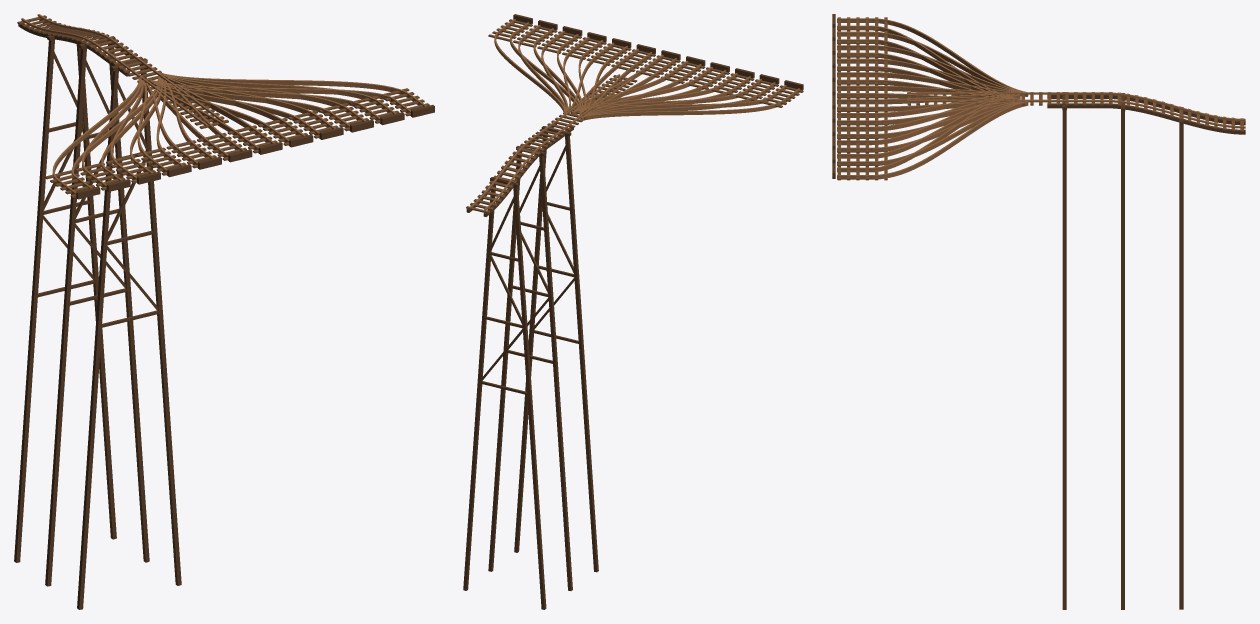
Rendered from MinecartMayhemRailStart.obj.
The picture shows the model from 3 angles, left to right: view 1: azimuth 30°, elevation 25°; view 2: azimuth 150°, elevation 25°; view 3: azimuth 270°, elevation 25°; orthographic projection. The views are drawn at different scales.
Parts seen in each view (by area): view 1: Trestle, Rails, Ties; view 2: Trestle, Rails, Ties; view 3: Rails, Trestle, Ties.
Boxes of the visible parts, x1,y1,x2,y2 form: Trestle: [14, 19, 434, 609]; Rails: [21, 14, 426, 197]; Ties: [17, 15, 429, 197]; Trestle: [463, 14, 803, 609]; Rails: [469, 19, 800, 212]; Ties: [466, 19, 803, 213]; Rails: [837, 18, 1245, 179]; Trestle: [832, 14, 1245, 609]; Ties: [837, 17, 1243, 180].
Bounding box in the file's own units: 65.5 × 93.32 × 70.8.
